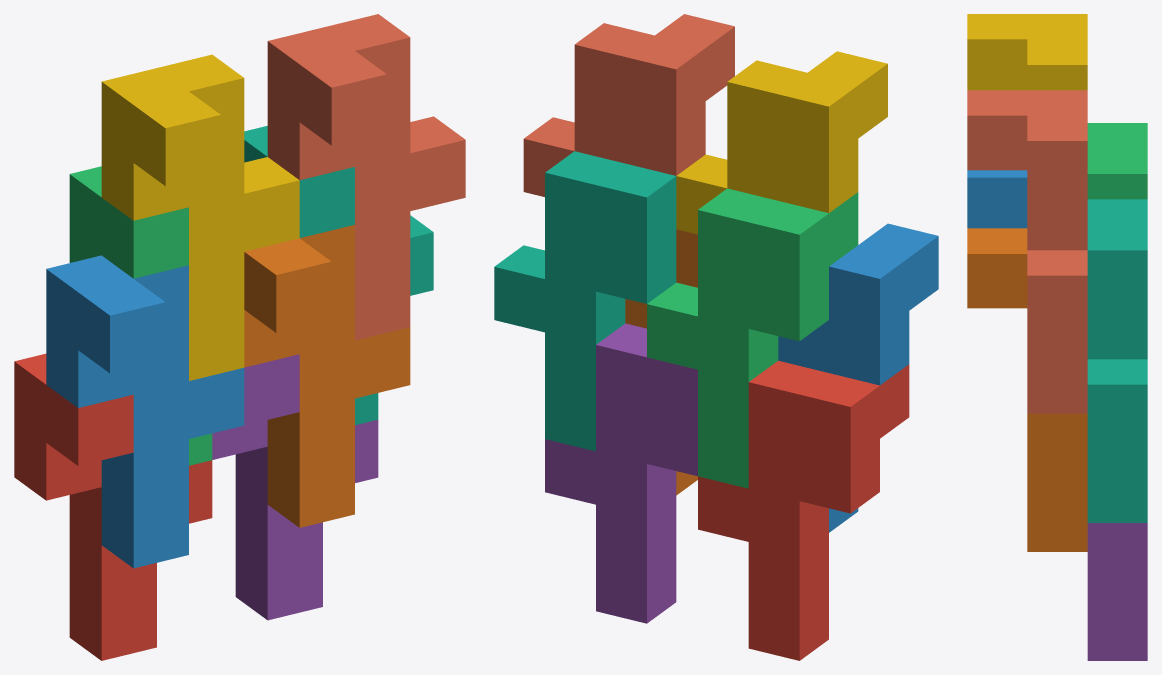
File: tiling.obj
The picture shows the model from 3 angles, left to right: view 1: azimuth 30°, elevation 25°; view 2: azimuth 150°, elevation 25°; view 3: azimuth 270°, elevation 25°; orthographic projection. The views are drawn at different scales.
Parts seen in each view (by area): view 1: copy_1_domain_2, copy_1_domain_8, copy_1_domain_4, copy_1_domain_6, copy_1_domain_1, copy_1_domain_5, copy_1_domain_3, copy_1_domain_7; view 2: copy_1_domain_1, copy_1_domain_3, copy_1_domain_7, copy_1_domain_5, copy_1_domain_4, copy_1_domain_8, copy_1_domain_2, copy_1_domain_6; view 3: copy_1_domain_8, copy_1_domain_7, copy_1_domain_6, copy_1_domain_4, copy_1_domain_5, copy_1_domain_3, copy_1_domain_2.
Part boxes in pixels (<box>): copy_1_domain_2: <box>46,255,244,568</box>; copy_1_domain_8: <box>267,14,465,340</box>; copy_1_domain_4: <box>101,54,299,380</box>; copy_1_domain_6: <box>244,225,410,527</box>; copy_1_domain_1: <box>14,353,212,660</box>; copy_1_domain_5: <box>212,354,378,620</box>; copy_1_domain_3: <box>69,166,212,465</box>; copy_1_domain_7: <box>244,126,433,425</box>; copy_1_domain_1: <box>698,360,909,660</box>; copy_1_domain_3: <box>647,188,858,488</box>; copy_1_domain_7: <box>494,151,676,451</box>; copy_1_domain_5: <box>545,323,697,623</box>; copy_1_domain_4: <box>676,51,887,234</box>; copy_1_domain_8: <box>523,14,734,196</box>; copy_1_domain_2: <box>778,223,938,532</box>; copy_1_domain_6: <box>625,229,697,495</box>; copy_1_domain_8: <box>967,90,1087,413</box>; copy_1_domain_7: <box>1087,199,1147,522</box>; copy_1_domain_6: <box>967,228,1087,551</box>; copy_1_domain_4: <box>967,14,1087,90</box>; copy_1_domain_5: <box>1087,523,1147,660</box>; copy_1_domain_3: <box>1087,123,1147,199</box>; copy_1_domain_2: <box>967,170,1027,228</box>.
Bounding box in the file's own units: 7 × 10 × 3.
